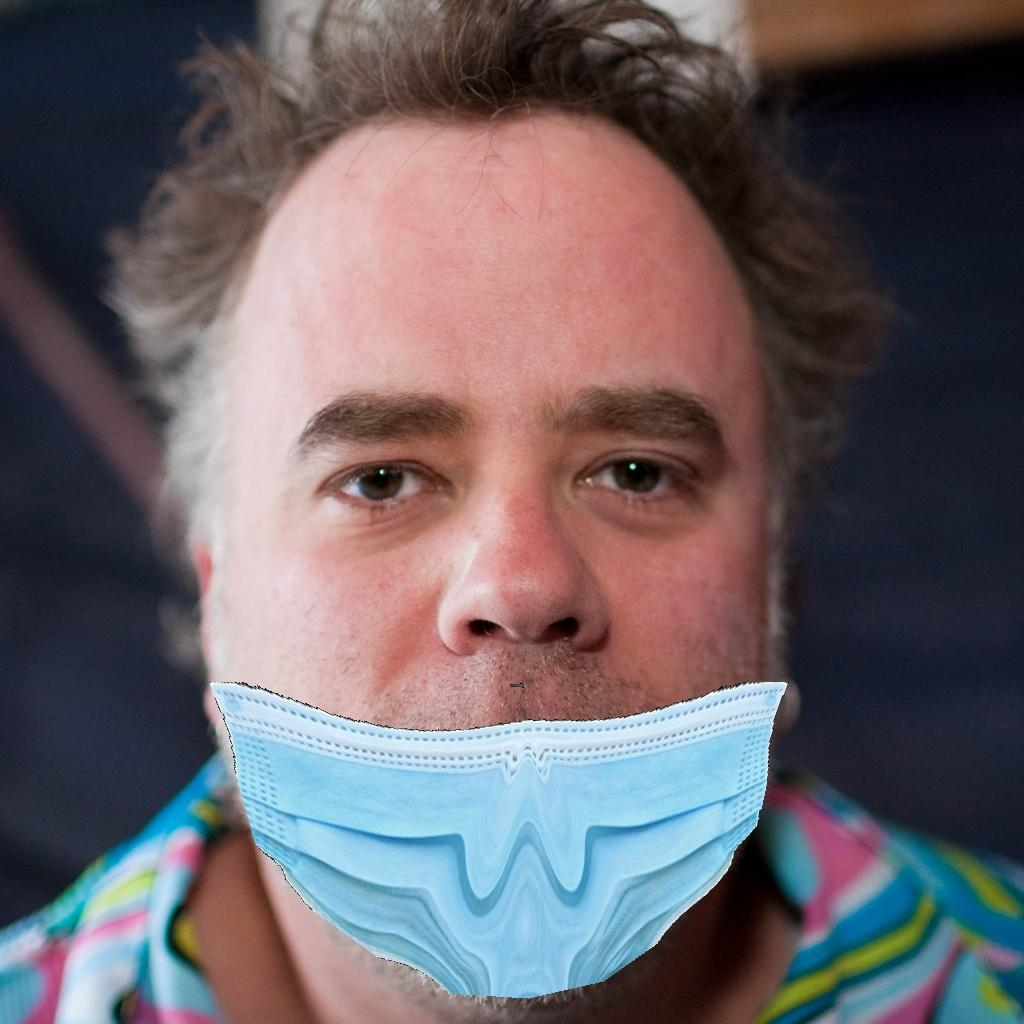Máscara Incorreta: (195, 295, 803, 977)
